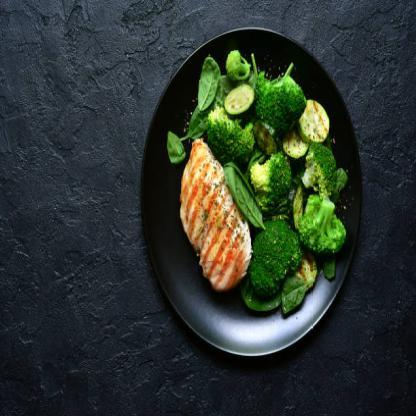broccoli: (198, 48, 349, 318)
